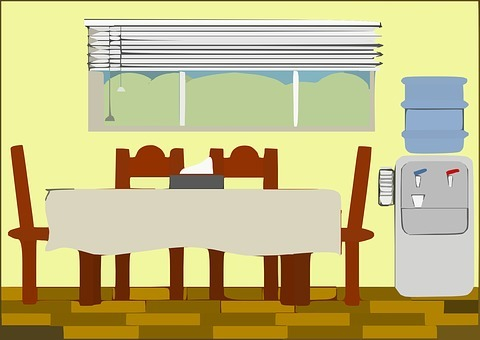chair: (3, 139, 89, 316), (107, 144, 188, 307), (302, 140, 373, 309), (204, 142, 277, 304)
diningtable: (42, 181, 345, 308)
